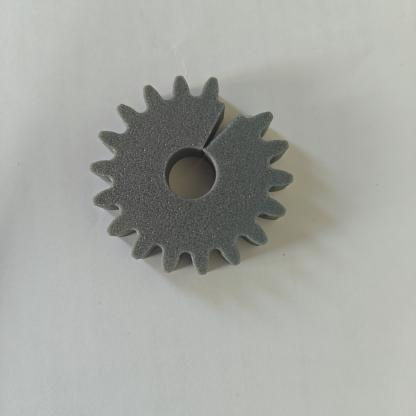defect: (169, 68, 294, 163)
gear: (73, 54, 314, 285)
